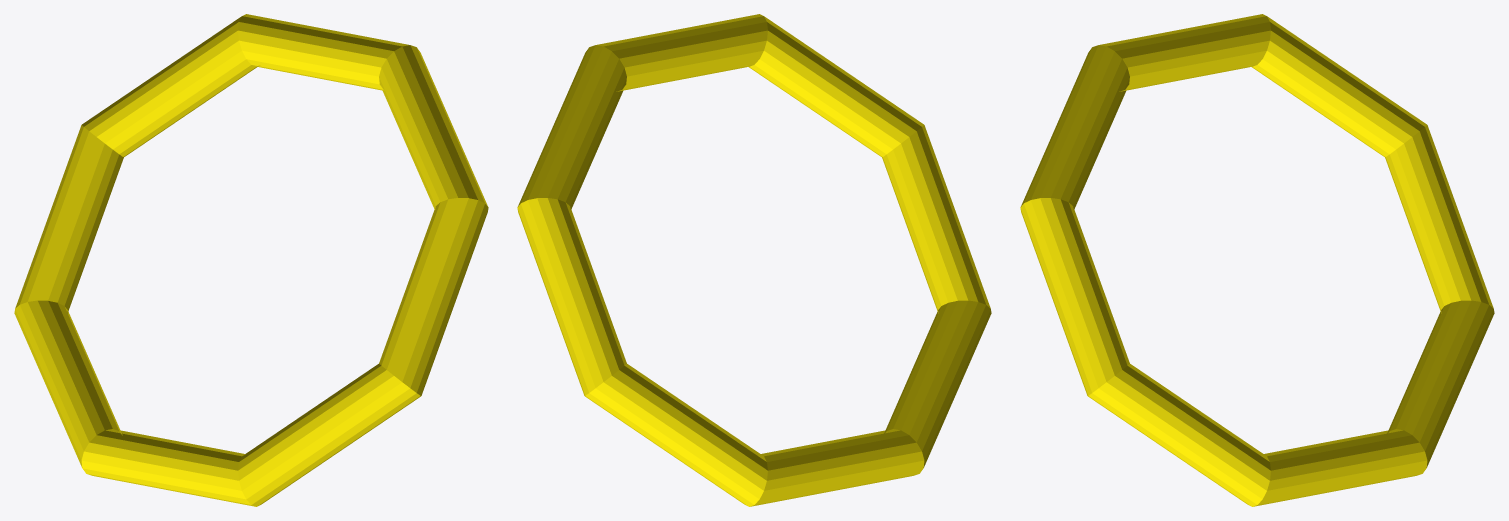
The model's file is sample-bangle.glb.
3 views of the same model, side by side, from view 1: azimuth 30°, elevation 25°; view 2: azimuth 150°, elevation 25°; view 3: azimuth 330°, elevation 25° (orthographic).
Size of the model in its own units: 0.02 by 0.02 by 0.002.
